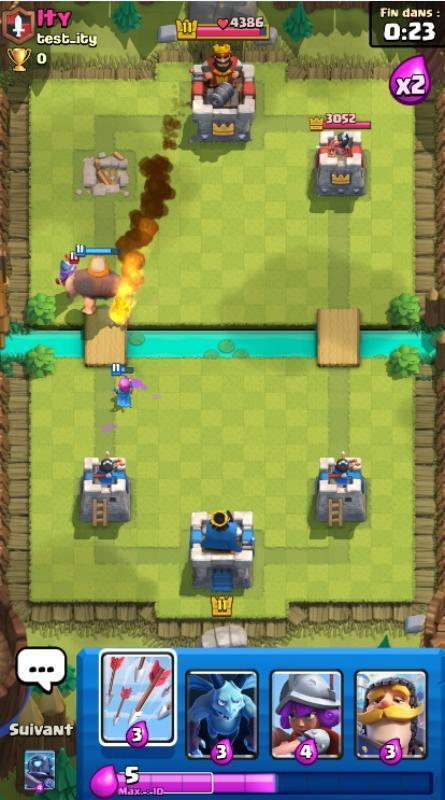enemy_archers: (53, 249, 81, 286)
enemy_fireball: (109, 137, 192, 326)
player_archers: (107, 366, 139, 410)
player_giant: (59, 252, 124, 314)
